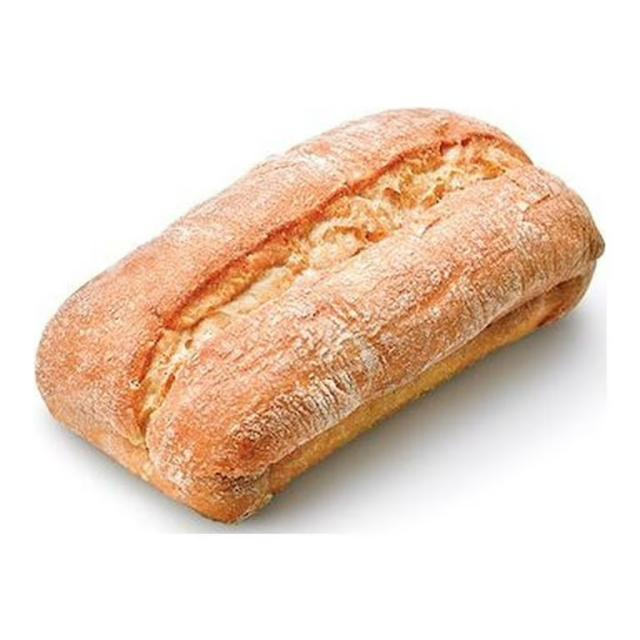Ciabatta: (37, 107, 608, 526)
